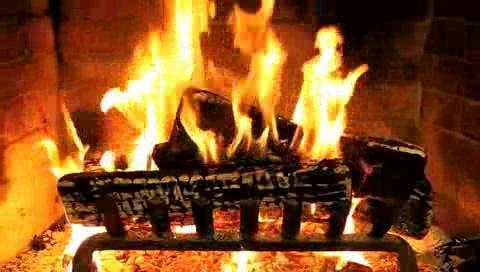fire: (103, 6, 358, 183)
